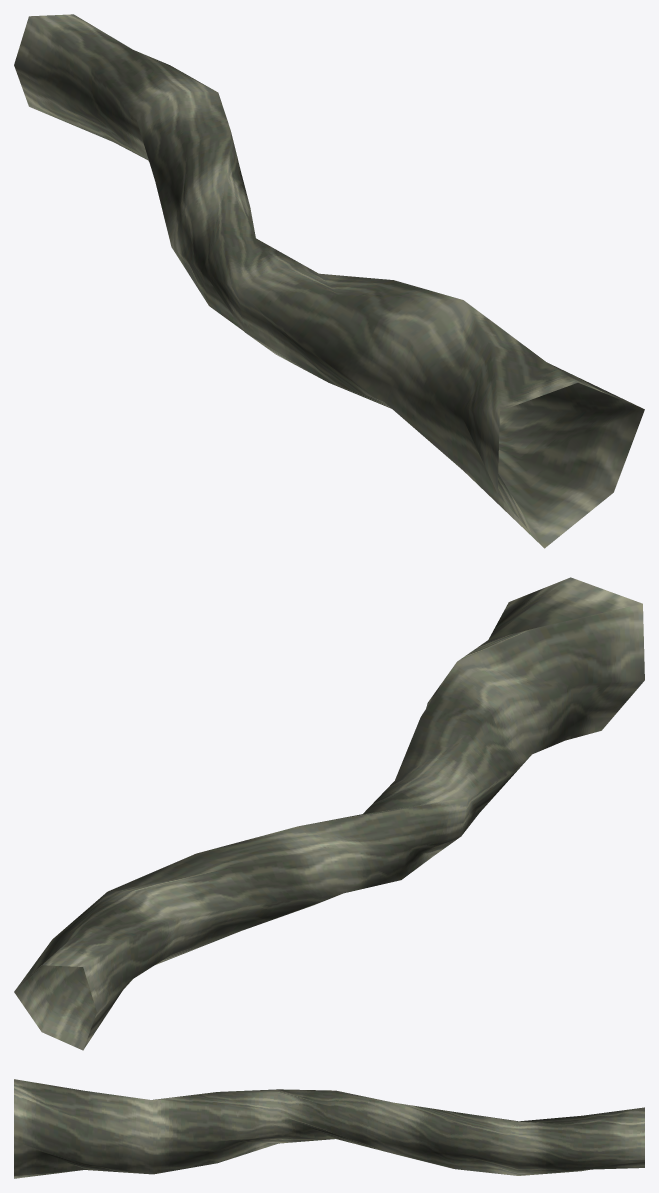
Rendered from INST_SWORDLIGHT_ROOTC.fbx.
The picture shows the model from 3 angles, top to bottom: view 1: azimuth 30°, elevation 25°; view 2: azimuth 150°, elevation 25°; view 3: azimuth 270°, elevation 25°; orthographic projection. The views are drawn at different scales.
Parts seen in each view (by area): view 1: INST_SWORDLIGHT_ROOTC; view 2: INST_SWORDLIGHT_ROOTC; view 3: INST_SWORDLIGHT_ROOTC.
Part boxes in pixels (x1,y1,x2,y2): INST_SWORDLIGHT_ROOTC: (14,14,644,548); INST_SWORDLIGHT_ROOTC: (14,577,644,1050); INST_SWORDLIGHT_ROOTC: (14,1079,644,1178).
Bounding box in the file's own units: 12390 × 9788 × 60507.
1 material, 1 textured.
